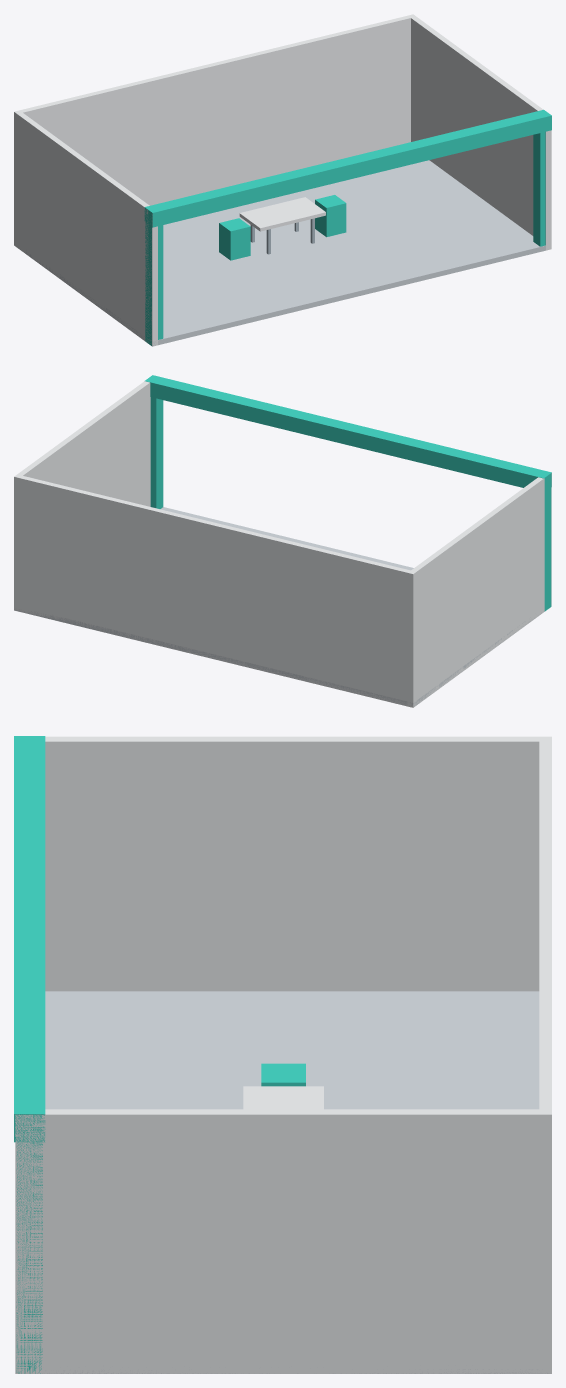
The picture shows the model from 3 angles, top to bottom: view 1: azimuth 30°, elevation 25°; view 2: azimuth 150°, elevation 25°; view 3: azimuth 270°, elevation 25°; orthographic projection. The views are drawn at different scales.
Parts seen in each view (by area): view 1: Exhibition Booth Concept; view 2: Exhibition Booth Concept; view 3: Exhibition Booth Concept.
Part boxes in pixels (<box>): Exhibition Booth Concept: <box>14,14,551,346</box>; Exhibition Booth Concept: <box>14,375,551,707</box>; Exhibition Booth Concept: <box>14,736,551,1373</box>.
Size of the model in its own units: 10 by 3.2 by 6.02.
